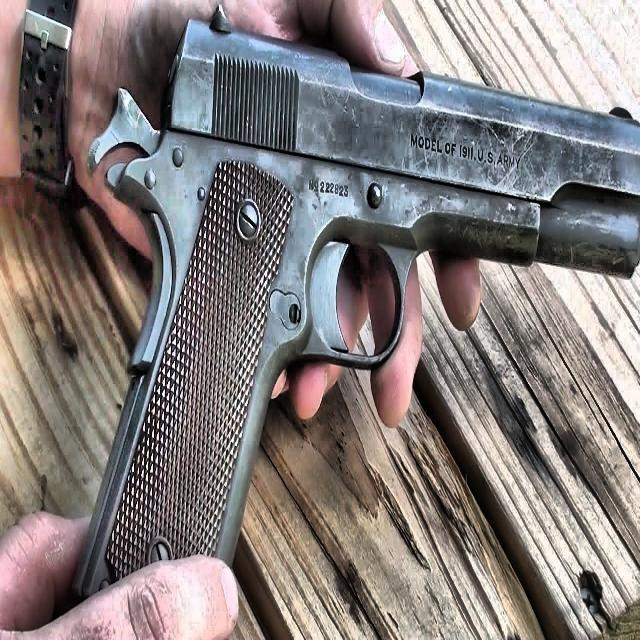Colt m1911: (64, 5, 638, 612)
